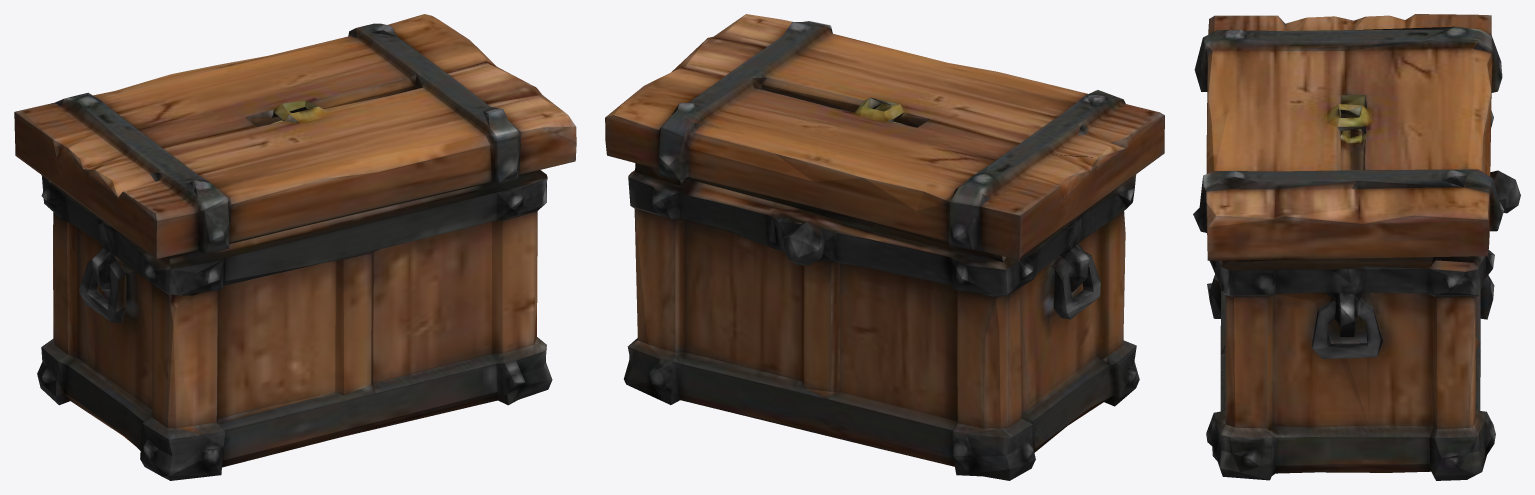
The model's file is coffer.glb.
3 renders of one model, left to right at view 1: azimuth 30°, elevation 25°; view 2: azimuth 150°, elevation 25°; view 3: azimuth 270°, elevation 25°, orthographic.
Parts seen in each view (by area): view 1: body, lid; view 2: body, lid; view 3: lid, body.
Part boxes in pixels (box(x1,y1,x2,y2)): body: box(37, 170, 552, 480); lid: box(14, 14, 576, 269); body: box(624, 170, 1139, 480); lid: box(605, 14, 1164, 268); lid: box(1193, 14, 1510, 270); body: box(1206, 110, 1520, 480).
Bounding box in the file's own units: 0.9982 × 0.6601 × 0.6871.
Materials: 2 (1 with a texture image).
